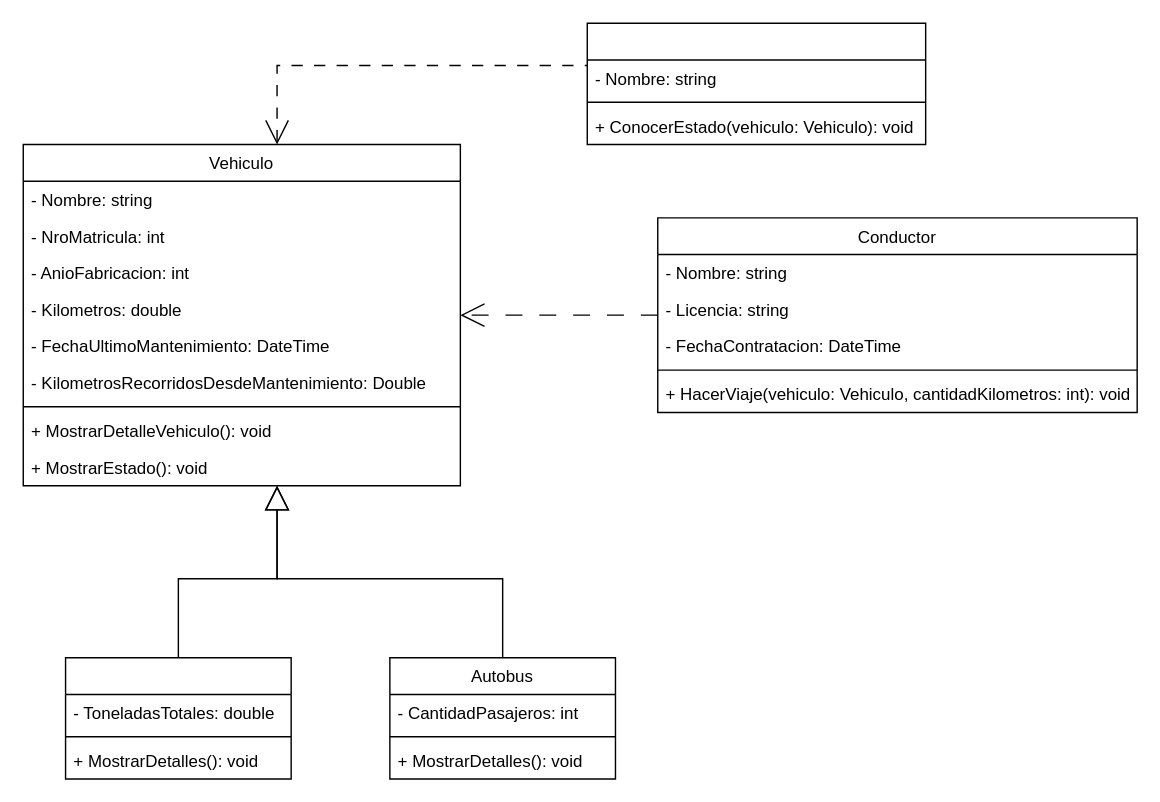
Image size: 1160x802. Some labels were removed from this diagram. Here are the shapes that lost their labels. From the top down, the box of each, then its label:
(586, 22, 926, 145): Supervisor
(64, 656, 291, 779): Camion
